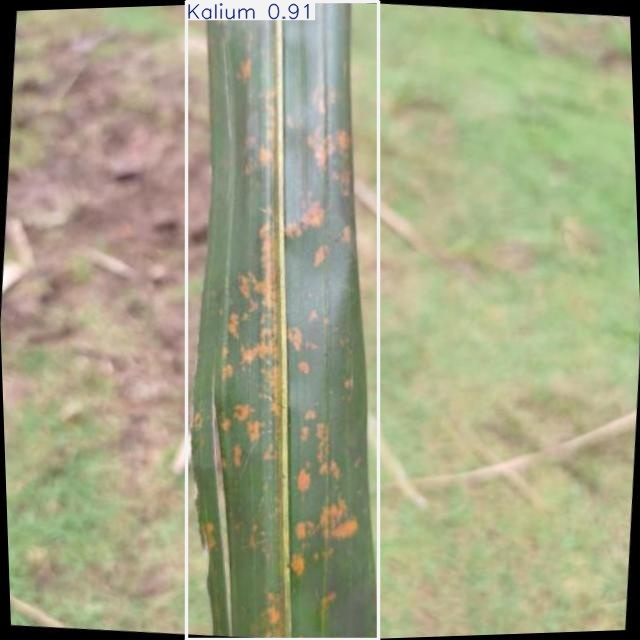Kalium: (187, 1, 379, 639)
